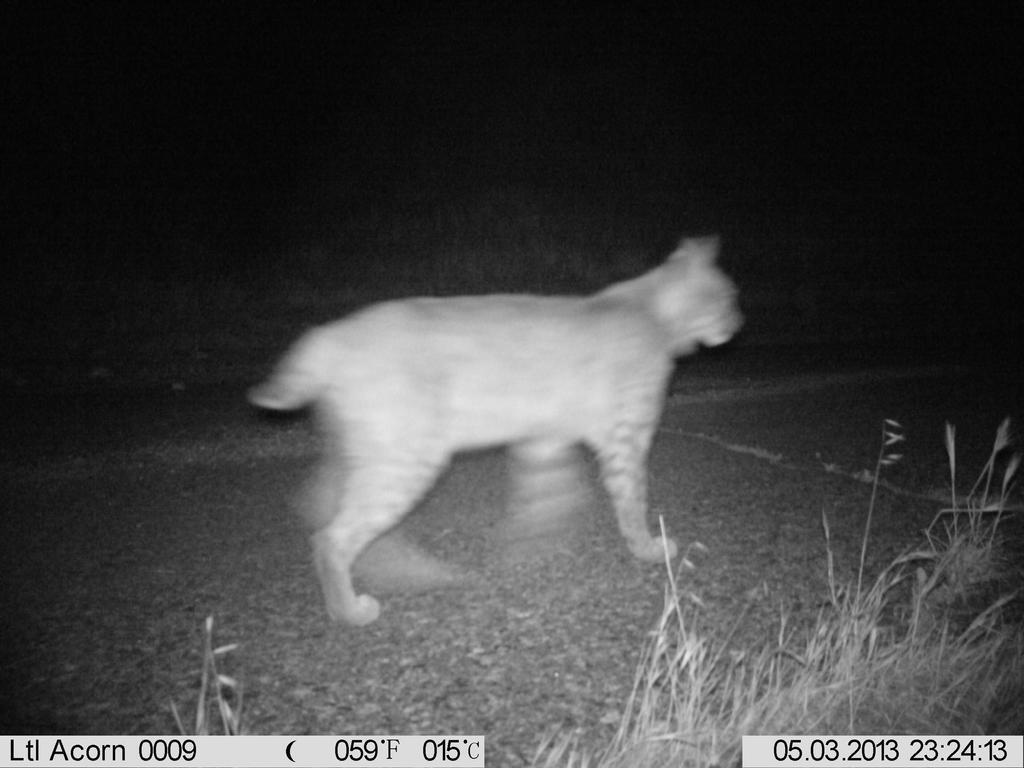bobcat: (241, 223, 748, 633)
